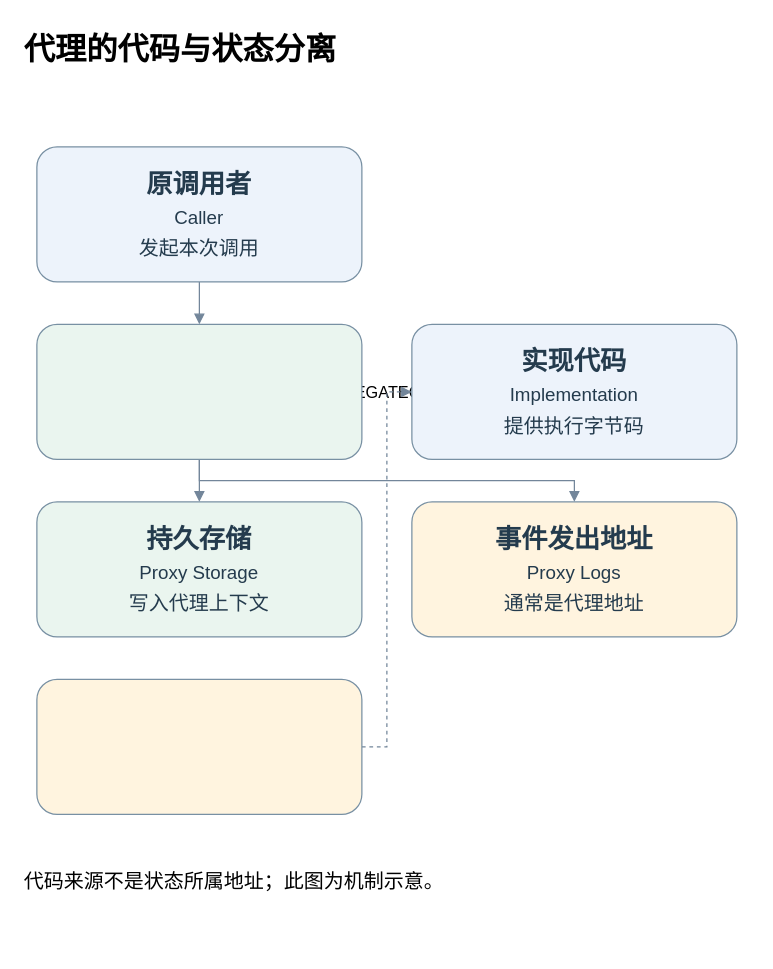
Image size: 773x969. Some labels were removed from this diagram. Each missing label, with the box of its shape:
代理地址 Proxy 状态与资产上下文: (36, 323, 362, 459)
版本时间线 Upgrade History 不能用现版覆盖旧版: (36, 678, 362, 814)
